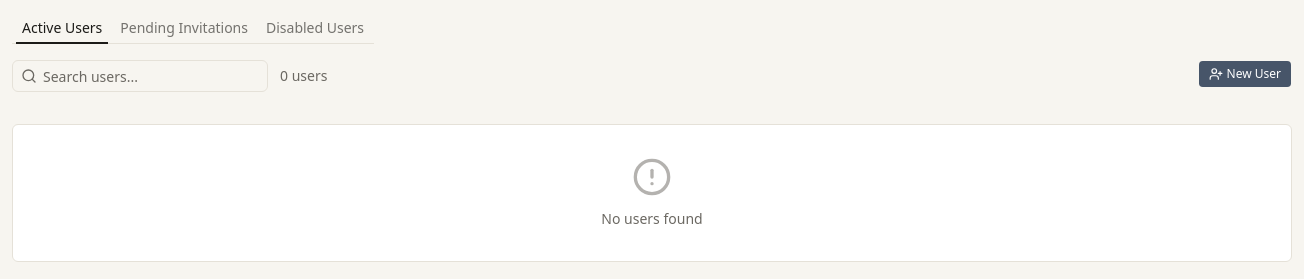
Test: AdminUserList permission surface › offers Enable rather than Disable on an account that is already disabled
This screenshot has width=1304, height=279.
Click the tab "Disabled Users": coordinates (315, 28) 259,16 -> 371,40
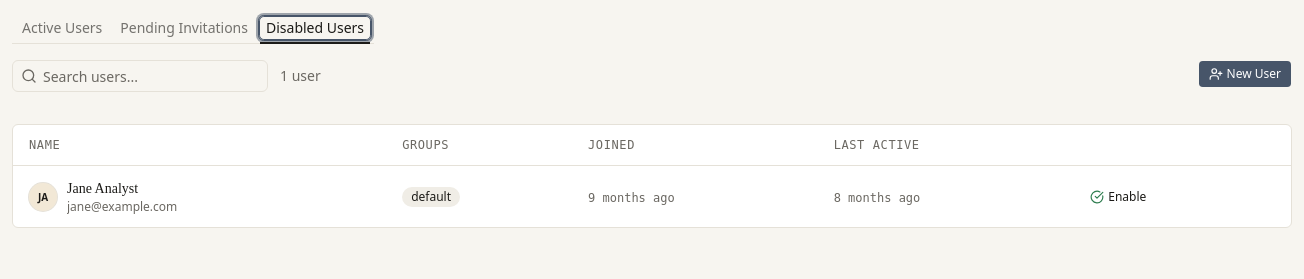
Expected: the button "Enable" is shown, 1079,182 -> 1157,210
